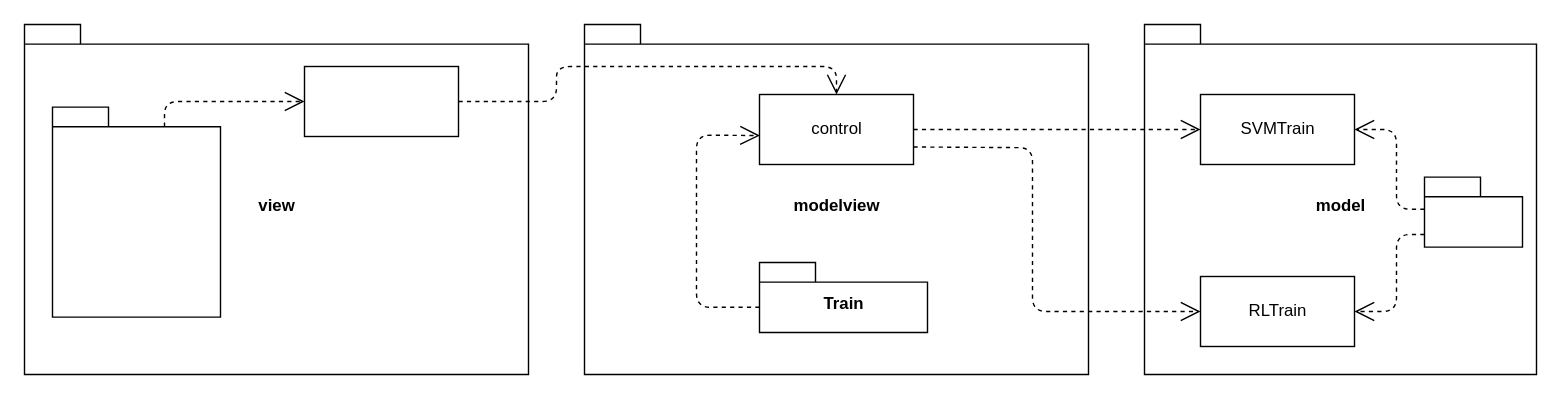
Image size: 1561x399. Some labels were removed from this diagram. Here are the shapes that lost their labels. From the top down, the centre of each, then its label:
(x=380, y=100): Object
(x=135, y=211): uiComponents
(x=1472, y=211): library
